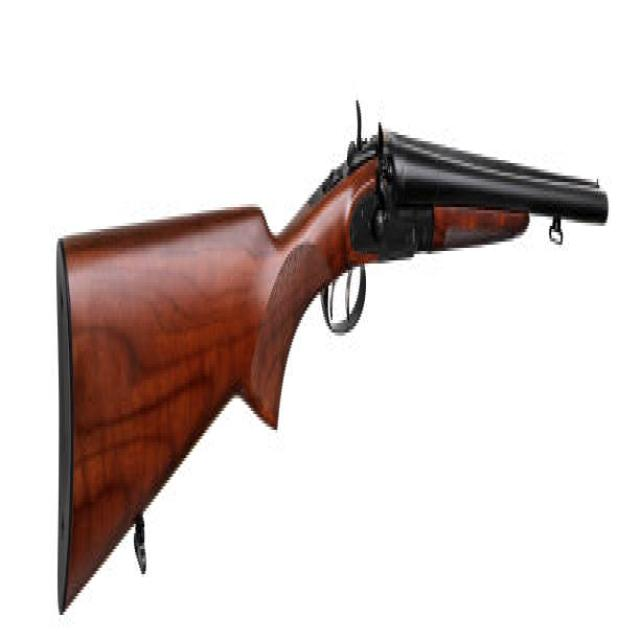rifle: (48, 94, 615, 621)
